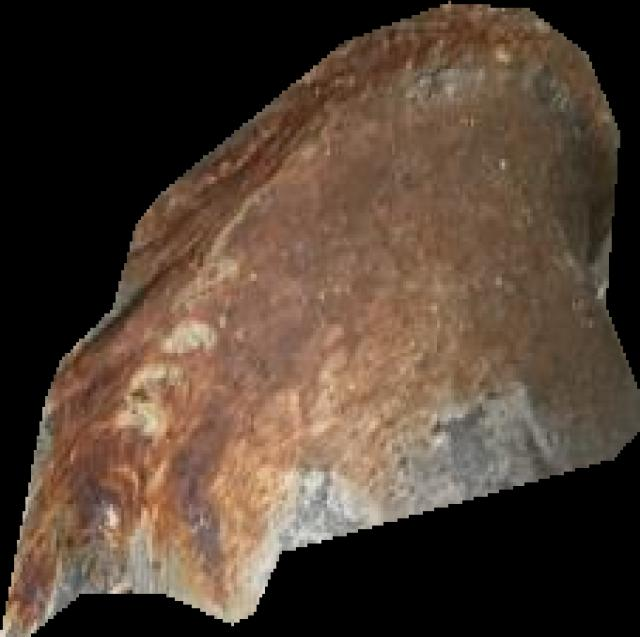Uniform Corrosion: (0, 1, 640, 637)
